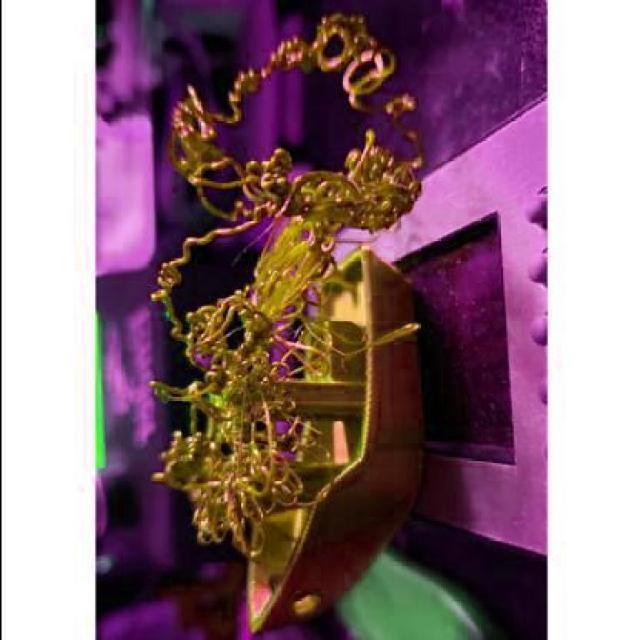spaghetti: (143, 14, 422, 560)
